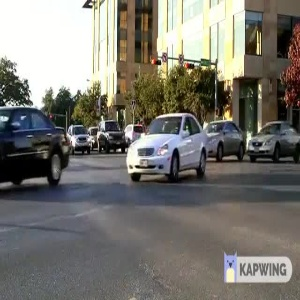car: (119, 111, 207, 182), (1, 98, 69, 189), (248, 118, 300, 164), (205, 116, 247, 159)
